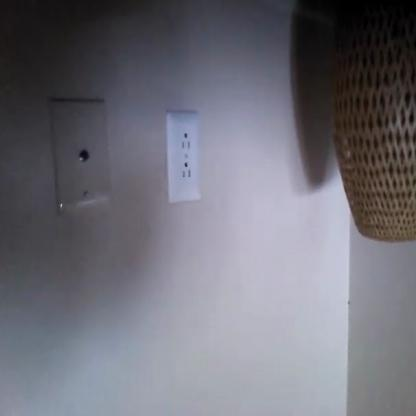OUTLET: (166, 110, 202, 206)
